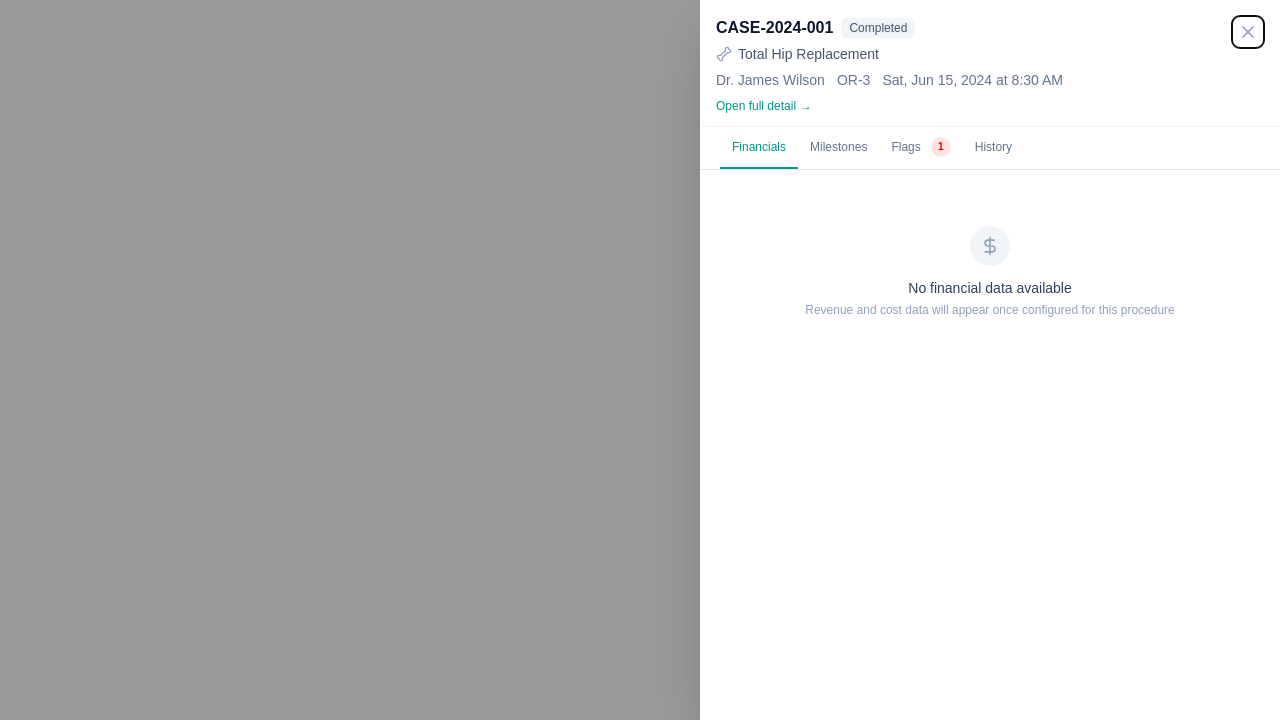
CaseDrawer — tab switching › switches back to Flags tab
The image size is (1280, 720).
Switch to Milestones tab
Click the button "Milestones" at [839, 148], box left=798, top=127, right=879, bottom=169
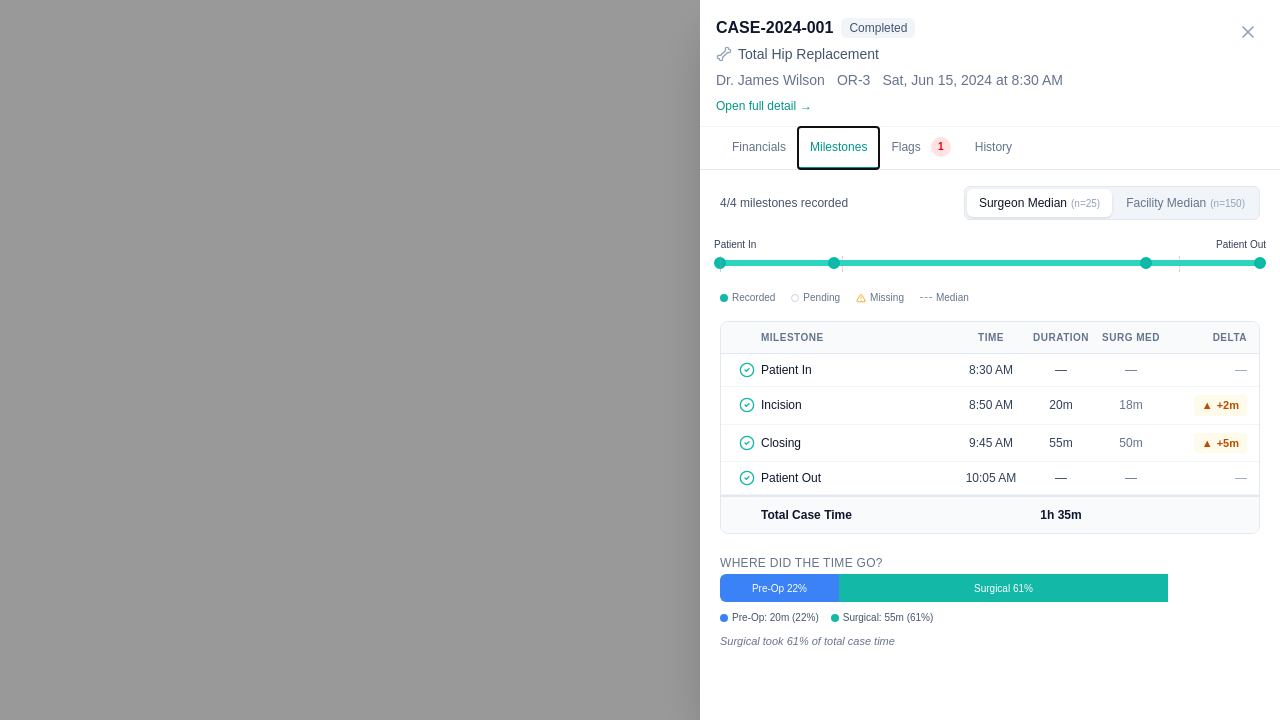
expect the text "Late start — 10 min behind schedule" is not shown: met
Switch back to Flags
Click the button "Flags 1" at [921, 148], box left=879, top=127, right=963, bottom=169
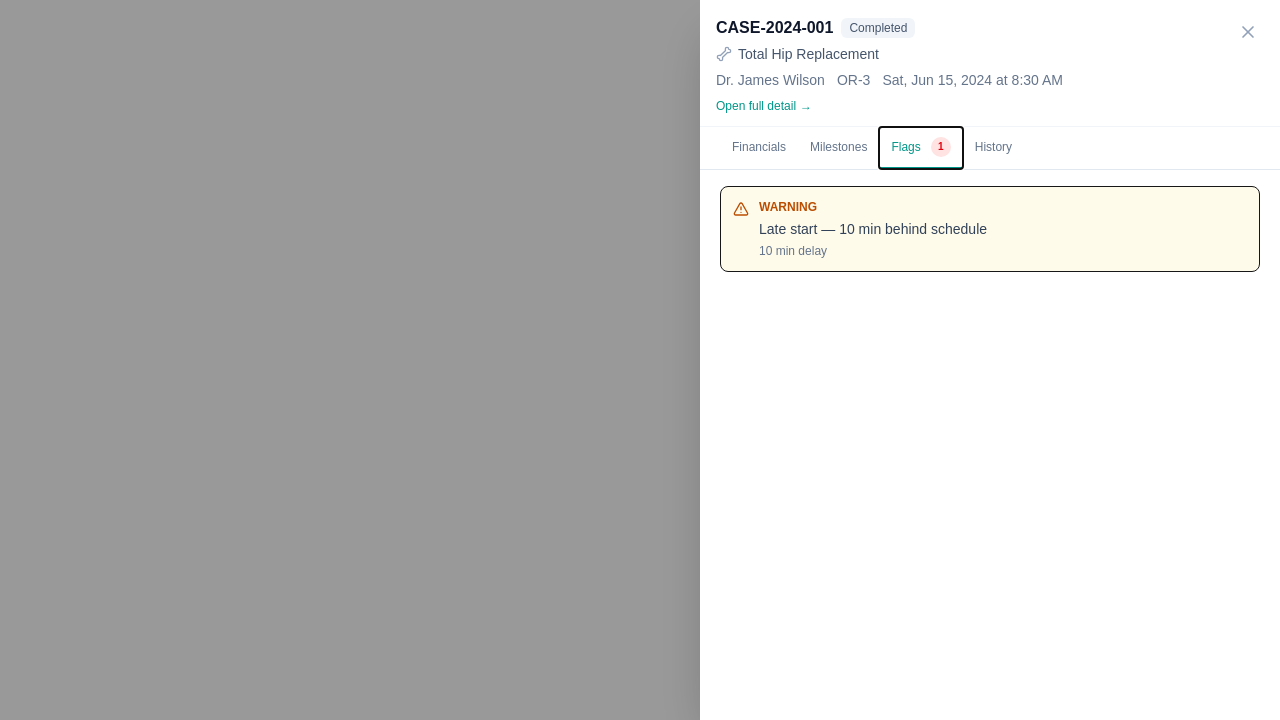
expect the text "Late start — 10 min behind schedule" is shown: met, box left=759, top=221, right=987, bottom=237
